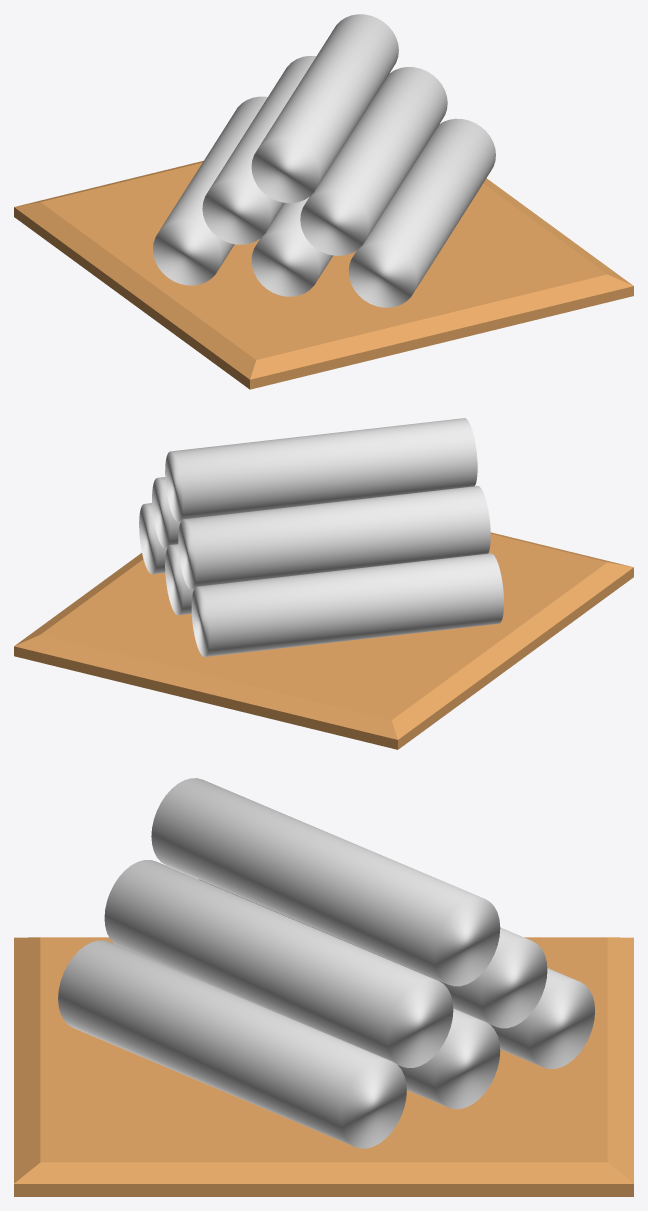
Rendered from forestry.glb.
3 views of the same model, one above another, from view 1: azimuth 30°, elevation 25°; view 2: azimuth 150°, elevation 25°; view 3: azimuth 270°, elevation 25° (orthographic). The views are drawn at different scales.
Parts seen in each view (by area): view 1: Cube, Cylinder.006, Cylinder.004, Cylinder.001, Cylinder.003, Cylinder.005, Cylinder.002; view 2: Cube, Cylinder.003, Cylinder.006, Cylinder.005, Cylinder.002, Cylinder.001, Cylinder.004; view 3: Cube, Cylinder.006, Cylinder.001, Cylinder.004, Cylinder.005, Cylinder.003, Cylinder.002.
Boxes of the visible parts, x1=… form: Cube: x1=14, y1=160, x2=633, y2=389; Cylinder.006: x1=251, y1=14, x2=398, y2=203; Cylinder.004: x1=300, y1=67, x2=447, y2=255; Cylinder.001: x1=348, y1=118, x2=495, y2=307; Cylinder.003: x1=153, y1=96, x2=267, y2=285; Cylinder.005: x1=202, y1=56, x2=316, y2=244; Cylinder.002: x1=251, y1=197, x2=333, y2=296; Cube: x1=14, y1=532, x2=633, y2=749; Cylinder.003: x1=191, y1=553, x2=503, y2=656; Cylinder.006: x1=165, y1=418, x2=477, y2=521; Cylinder.005: x1=178, y1=486, x2=490, y2=589; Cylinder.002: x1=165, y1=544, x2=193, y2=615; Cylinder.001: x1=139, y1=503, x2=166, y2=574; Cylinder.004: x1=152, y1=477, x2=180, y2=548; Cube: x1=14, y1=937, x2=633, y2=1196; Cylinder.006: x1=151, y1=778, x2=500, y2=986; Cylinder.001: x1=58, y1=940, x2=406, y2=1148; Cylinder.004: x1=104, y1=860, x2=453, y2=1067; Cylinder.005: x1=199, y1=879, x2=547, y2=1028; Cylinder.003: x1=489, y1=968, x2=594, y2=1069; Cylinder.002: x1=398, y1=1008, x2=500, y2=1109.
Bounding box in the file's own units: 2.91 × 1.3 × 3.1.
